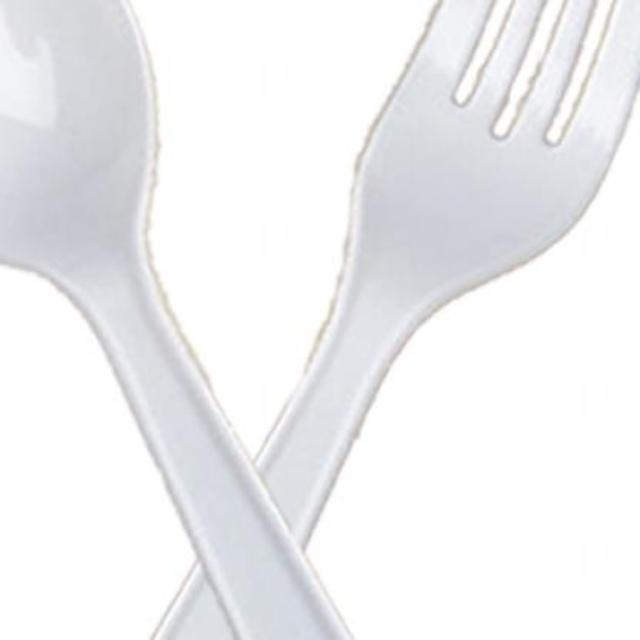plastic_box: (0, 1, 638, 637)
